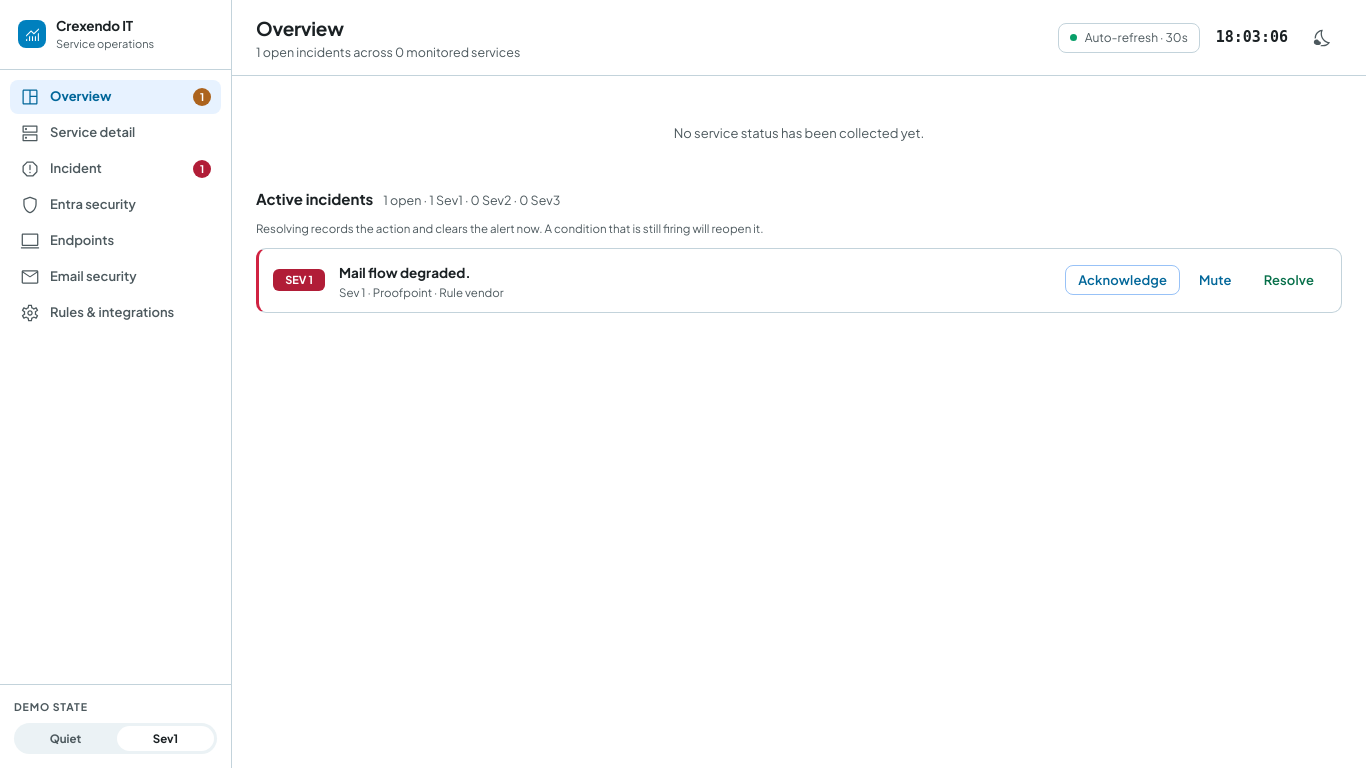
Test case: an acknowledgement that reaches the server › shows the SERVER's actor, not the demo name, the moment it lands
Expected: the element with test id "alert-row" is shown, [256,248,1342,313]
Click the button "Acknowledge" at (1123, 280), box [1065,265,1180,295]
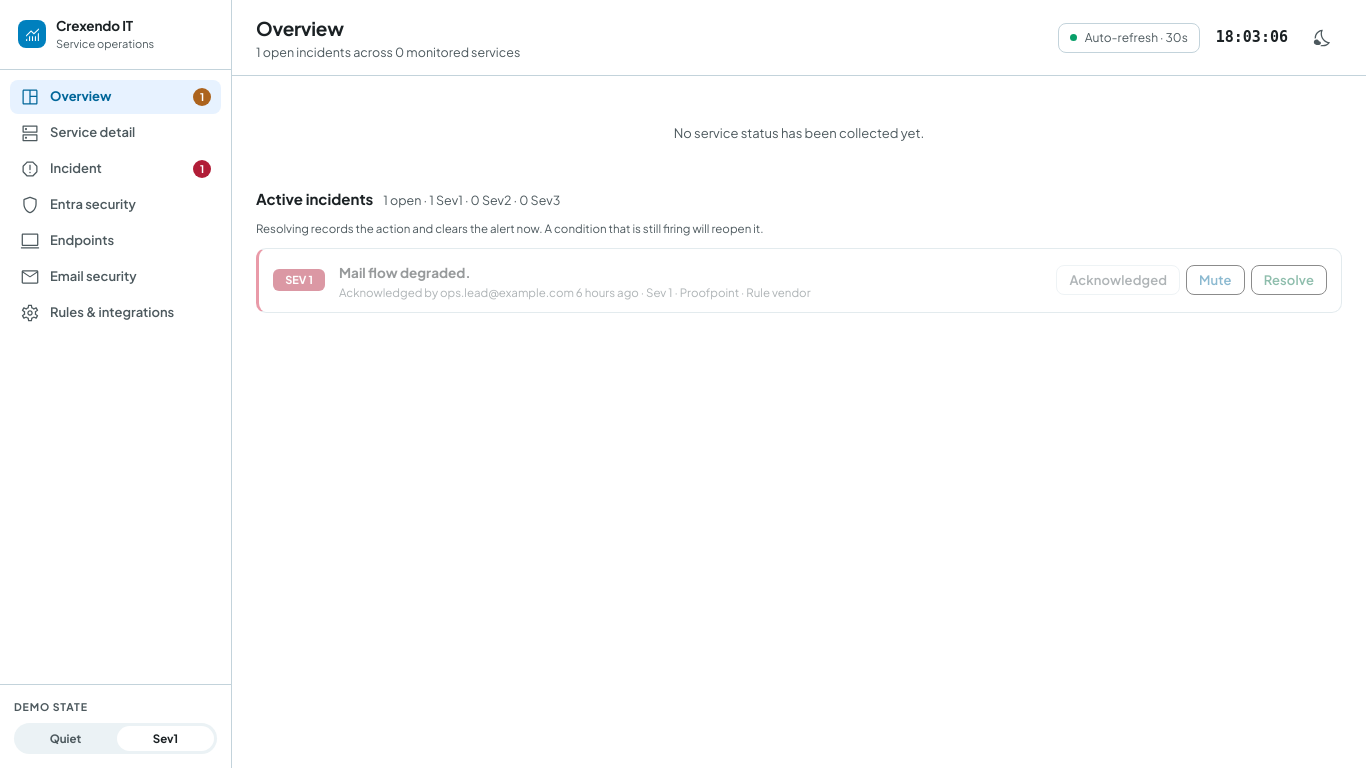
Result: the text "Acknowledged by ops.lead@example.com" is shown at [339,284,810,300]
Result: the button "Acknowledged" is disabled at [1056,265,1180,295]
